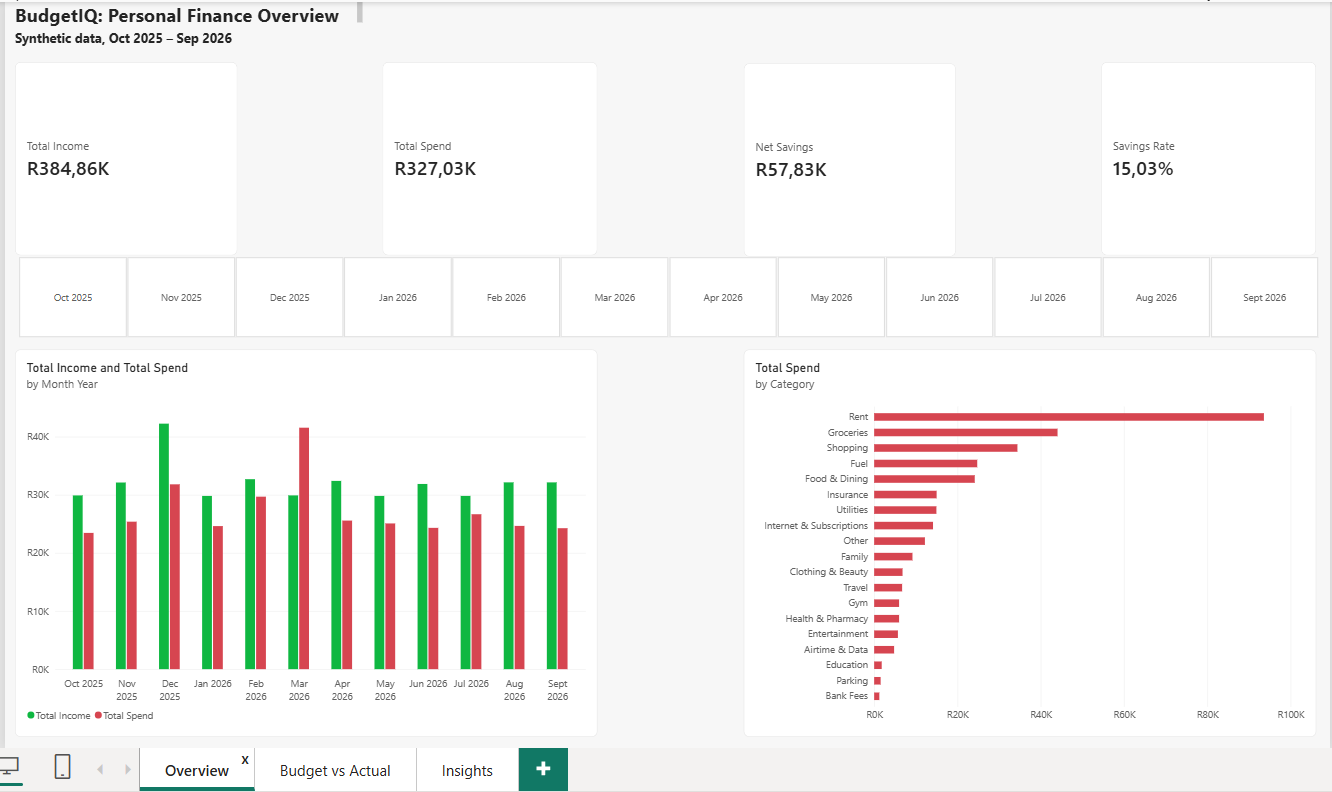

The dashboard page shown, as its layout file describes it:
{"tool":"powerbi","page":{"name":"Overview","canvas":[1920,1080],"ordinal":0},"visuals":[{"type":"cardVisual","fields":{"Data":["transactions_synthetic.Total Income"]},"box":[14.5,86.9,322.1,280.5],"z":0},{"type":"cardVisual","fields":{"Data":["transactions_synthetic.Total Spend"]},"box":[547.1,86.9,311.3,280.5],"z":1000},{"type":"cardVisual","fields":{"Data":["transactions_synthetic.Net Savings"]},"box":[1068.9,88.7,307.6,280.5],"z":2000},{"type":"cardVisual","fields":{"Data":["transactions_synthetic.Savings Rate"]},"box":[1587.1,86.9,311.3,280.5],"z":3000},{"type":"clusteredColumnChart","fields":{"Category":["Date.Month Year"],"Y":["transactions_synthetic.Total Income","transactions_synthetic.Total Spend"]},"box":[14.5,503.1,843.3,561],"z":4000},{"type":"clusteredBarChart","fields":{"Category":["transactions_synthetic.category"],"Y":["transactions_synthetic.Total Spend"]},"box":[1069.5,503.1,828.8,561],"z":5000},{"type":"slicer","fields":{"Values":["Date.Month Year"]},"box":[0,367.4,1920.1,119.4],"z":6000},{"type":"textbox","box":[14.5,0,503.1,39.8],"z":7000},{"type":"textbox","box":[14.5,39.8,503.1,30.8],"z":8000}]}

Visuals, with their boxes on the page's 1920x1080 design canvas (x1, y1, x2, y2). These are canvas units, not pixel positions in the 1332x792 screenshot, which may show the page scaled, cropped or inside an application window:
cardVisual - transactions_synthetic.Total Income: 14 87 337 367
cardVisual - transactions_synthetic.Total Spend: 547 87 858 367
cardVisual - transactions_synthetic.Net Savings: 1069 89 1376 369
cardVisual - transactions_synthetic.Savings Rate: 1587 87 1898 367
clusteredColumnChart - Date.Month Year x transactions_synthetic.Total Income: 14 503 858 1064
clusteredBarChart - transactions_synthetic.category x transactions_synthetic.Total Spend: 1070 503 1898 1064
slicer - Date.Month Year: 0 367 1920 487
textbox: 14 0 518 40
textbox: 14 40 518 71
